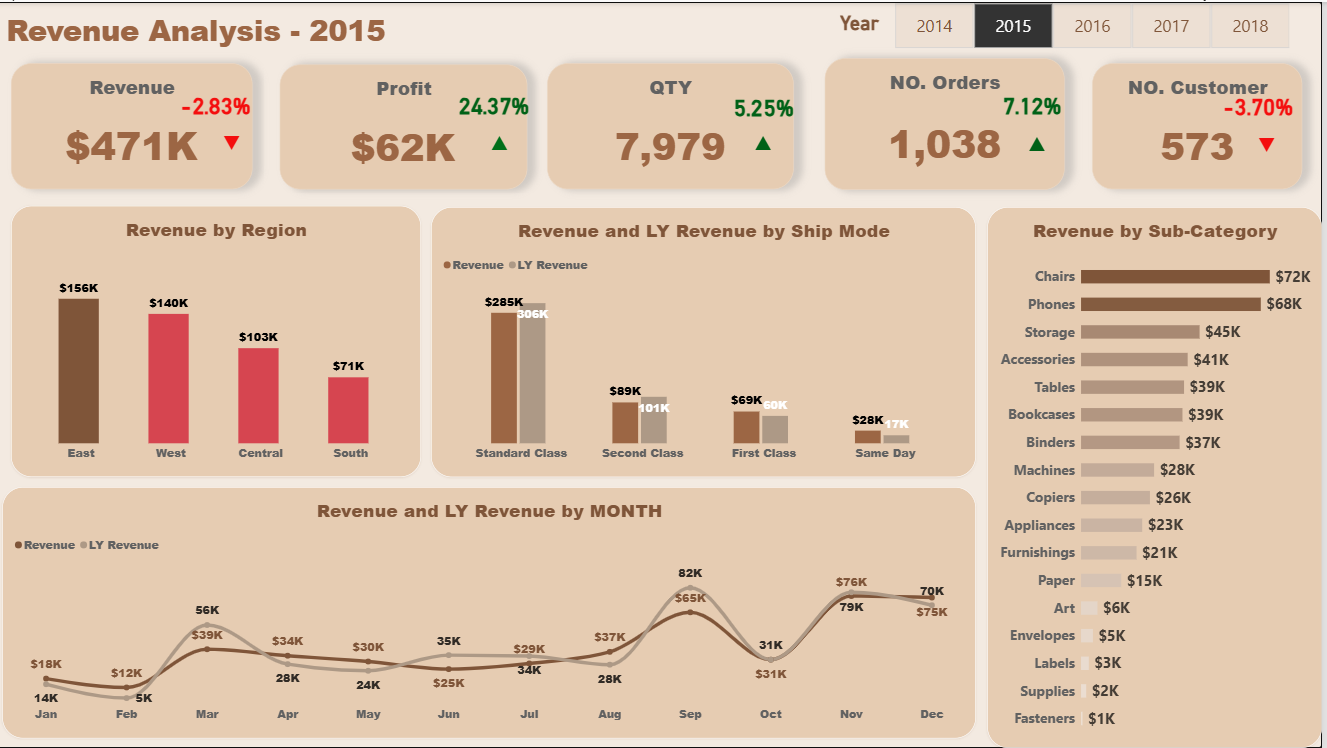

The dashboard page shown, as its layout file describes it:
{"tool":"powerbi","page":{"name":"DASHBOARD","canvas":[1920,1080],"ordinal":0},"visuals":[{"type":"advanceCardE03760C5AB684758B56AA29F9E6C257B","title":"Revenue","fields":{"mainMeasure":["Calculation.Revenue"]},"box":[21.7,88.7,349.3,182.8],"z":0},{"type":"advanceCardE03760C5AB684758B56AA29F9E6C257B","title":"Profit","fields":{"mainMeasure":["Calculation.Profit"]},"box":[410.8,90.5,358.3,181],"z":1000},{"type":"advanceCardE03760C5AB684758B56AA29F9E6C257B","title":"QTY","fields":{"mainMeasure":["Calculation.QTY"]},"box":[798.1,88.7,356.5,182.8],"z":2000},{"type":"advanceCardE03760C5AB684758B56AA29F9E6C257B","title":"NO. Orders","fields":{"mainMeasure":["Calculation.Orders"]},"box":[1199.8,81.4,347.5,190],"z":3000},{"type":"advanceCardE03760C5AB684758B56AA29F9E6C257B","title":"NO. Customer","fields":{"mainMeasure":["Calculation.Customer"]},"box":[1587.1,88.7,304,182.8],"z":4000},{"type":"slicer","fields":{"Values":["Calender.Year"]},"box":[1281.2,0,609.9,68.8],"z":5000},{"type":"cardVisual","fields":{"Data":["Calculation.Show Revenue"]},"box":[199.1,97.7,237.1,106.8],"z":6000},{"type":"cardVisual","fields":{"Data":["profit Calc.Show Profit"]},"box":[644.2,123.1,153.8,52.5],"z":7000},{"type":"cardVisual","fields":{"Data":["Calculation.Arrow Revenue"]},"box":[273.3,186.4,137,31.8],"z":8000},{"type":"cardVisual","fields":{"Data":["profit Calc.Arrow Proift"]},"box":[660.5,181,137.5,43.4],"z":9000},{"type":"shape","box":[9,0,615.3,81.4],"z":10000},{"type":"columnChart","fields":{"Category":["LOCAtion.Region"],"Y":["Calculation.Revenue"]},"box":[21.7,295,593.6,392.7],"z":11000},{"type":"lineChart","fields":{"Category":["Calender.MONTH"],"Y":["Calculation.Revenue","Calculation.LY Revenue"]},"box":[9,702.1,1409.7,363.7],"z":12000},{"type":"clusteredColumnChart","fields":{"Category":["Ship mode.Ship Mode"],"Y":["Calculation.Revenue","Calculation.LY Revenue"]},"box":[629.8,296.8,789,390.9],"z":13000},{"type":"clusteredBarChart","fields":{"Category":["Prouducts.Sub-Category"],"Y":["Calculation.Revenue"]},"box":[1435.1,296.8,485,783.6],"z":14000},{"type":"cardVisual","fields":{"Data":["customer calc.Show Customer"]},"box":[1733.7,123.1,186.4,57.9],"z":15000},{"type":"cardVisual","fields":{"Data":["customer calc.Arrow Customer"]},"box":[1759,175.5,161.1,59.7],"z":16000},{"type":"cardVisual","fields":{"Data":["QTY CALC.Show QTY"]},"box":[1002.6,114,217.2,76],"z":17000},{"type":"cardVisual","fields":{"Data":["QTY CALC.Arrow QTY"]},"box":[1024.3,162.9,173.7,77.8],"z":18000},{"type":"cardVisual","fields":{"Data":["Orders CALC.Show Orders"]},"box":[1398.9,119.4,202.7,63.3],"z":19000},{"type":"cardVisual","fields":{"Data":["Orders CALC.Arrow Orders"]},"box":[1435.1,150.2,144.8,105],"z":20000},{"type":"textbox","box":[1221.5,12.7,59.7,77.8],"z":21000}]}

Visuals, with their boxes in screenshot pixels (x1, y1, x2, y2), scaled from the page's 1920x1080 canvas onto the 1327x748 screenshot:
"Revenue" advanceCardE03760C5AB684758B56AA29F9E6C257B: box(15, 61, 256, 188)
"Profit" advanceCardE03760C5AB684758B56AA29F9E6C257B: box(284, 63, 532, 188)
"QTY" advanceCardE03760C5AB684758B56AA29F9E6C257B: box(552, 61, 798, 188)
"NO. Orders" advanceCardE03760C5AB684758B56AA29F9E6C257B: box(829, 56, 1069, 188)
"NO. Customer" advanceCardE03760C5AB684758B56AA29F9E6C257B: box(1097, 61, 1307, 188)
slicer - Calender.Year: box(885, 0, 1307, 48)
cardVisual - Calculation.Show Revenue: box(138, 68, 301, 142)
cardVisual - profit Calc.Show Profit: box(445, 85, 552, 122)
cardVisual - Calculation.Arrow Revenue: box(189, 129, 284, 151)
cardVisual - profit Calc.Arrow Proift: box(457, 125, 552, 155)
shape: box(6, 0, 431, 56)
columnChart - LOCAtion.Region x Calculation.Revenue: box(15, 204, 425, 476)
lineChart - Calender.MONTH x Calculation.Revenue: box(6, 486, 981, 738)
clusteredColumnChart - Ship mode.Ship Mode x Calculation.Revenue: box(435, 206, 981, 476)
clusteredBarChart - Prouducts.Sub-Category x Calculation.Revenue: box(992, 206, 1326, 747)
cardVisual - customer calc.Show Customer: box(1198, 85, 1326, 125)
cardVisual - customer calc.Arrow Customer: box(1216, 122, 1326, 163)
cardVisual - QTY CALC.Show QTY: box(693, 79, 843, 132)
cardVisual - QTY CALC.Arrow QTY: box(708, 113, 828, 167)
cardVisual - Orders CALC.Show Orders: box(967, 83, 1107, 127)
cardVisual - Orders CALC.Arrow Orders: box(992, 104, 1092, 177)
textbox: box(844, 9, 885, 63)
